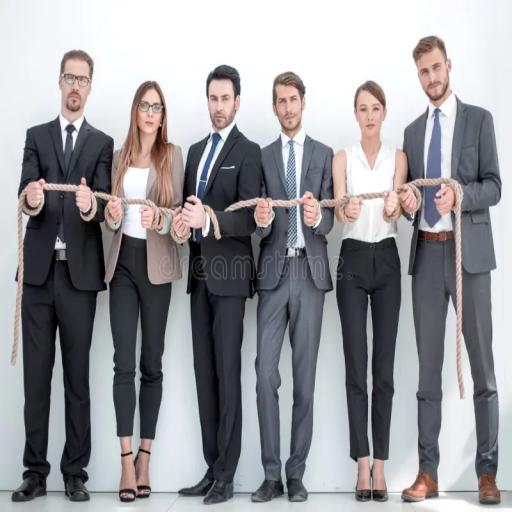person: (397, 34, 502, 504), (11, 49, 114, 503), (170, 64, 268, 504), (251, 70, 335, 502), (103, 80, 185, 502), (332, 80, 410, 502)
tie: (193, 132, 221, 243), (423, 108, 442, 228), (285, 140, 297, 247)
